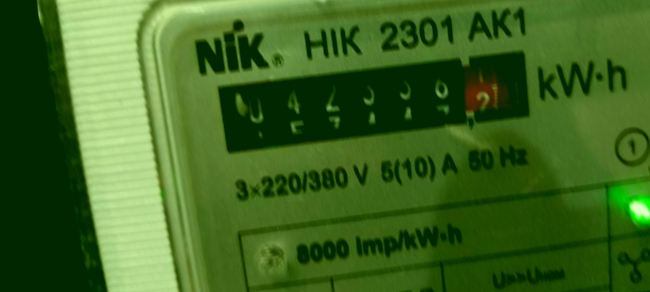0: (240, 90, 263, 125)
1: (468, 59, 483, 86)
2: (315, 77, 340, 114), (469, 89, 488, 112)
3: (352, 72, 374, 106), (391, 68, 411, 102)
4: (280, 82, 300, 116)
6: (426, 66, 449, 102)
screen: (200, 36, 543, 164)
